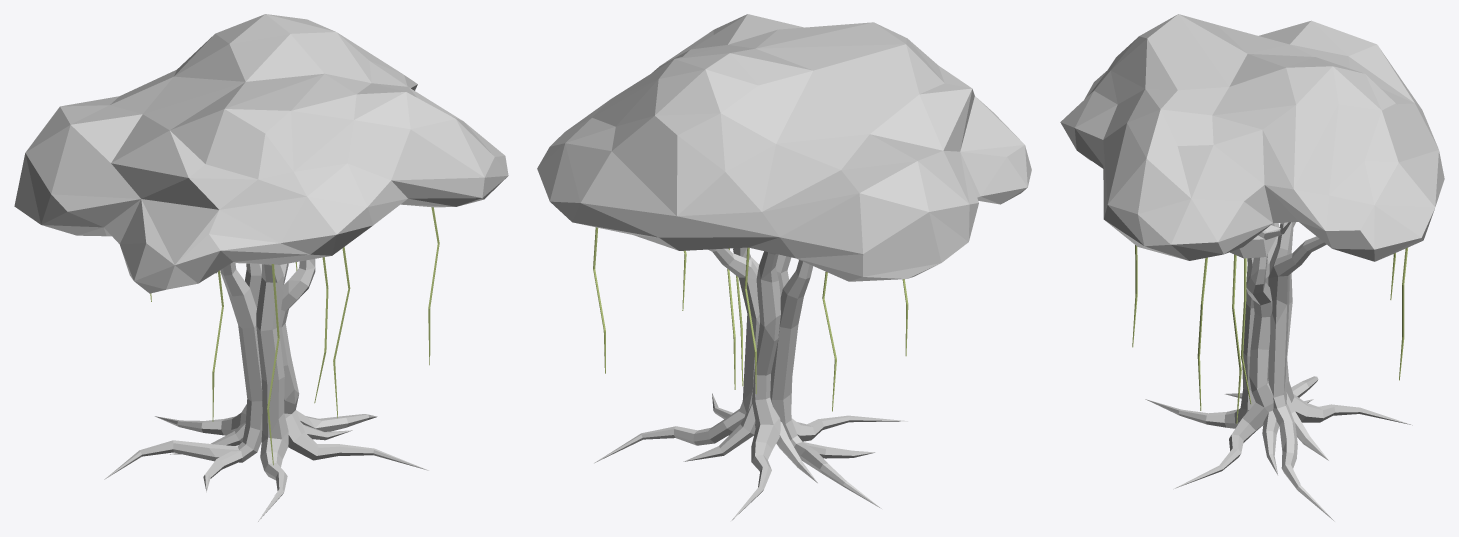
File: wild_tree1.fbx
The picture shows the model from 3 angles, left to right: view 1: azimuth 30°, elevation 25°; view 2: azimuth 150°, elevation 25°; view 3: azimuth 270°, elevation 25°; orthographic projection. The views are drawn at different scales.
Parts seen in each view (by area): view 1: Oak_Tree_01_mesh; view 2: Oak_Tree_01_mesh; view 3: Oak_Tree_01_mesh.
Part boxes in pixels (x1=…): Oak_Tree_01_mesh: x1=14, y1=14, x2=508, y2=521; Oak_Tree_01_mesh: x1=537, y1=14, x2=1031, y2=521; Oak_Tree_01_mesh: x1=1060, y1=14, x2=1444, y2=521.
Size of the model in its own units: 1160 by 1195 by 1030.
